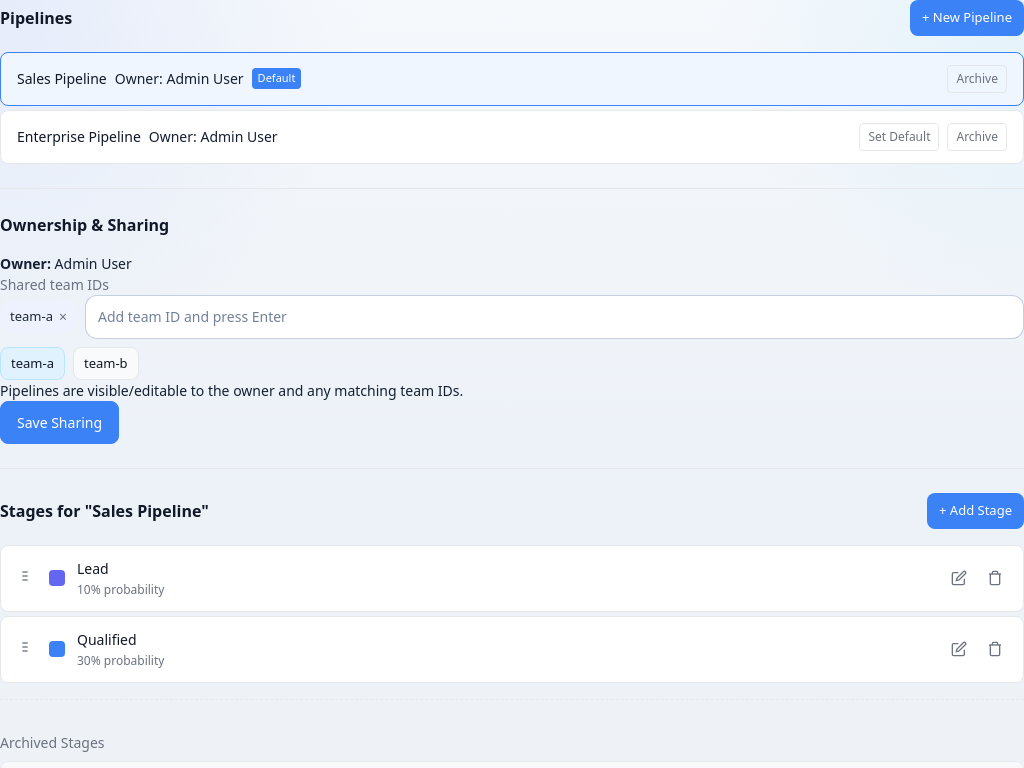
PipelineSettings › changes selected pipeline when clicked
The width and height of the screenshot is (1024, 768).
Note: Click Enterprise Pipeline
Click the text "Enterprise Pipeline" at [79, 136], box [17,126,141,147]
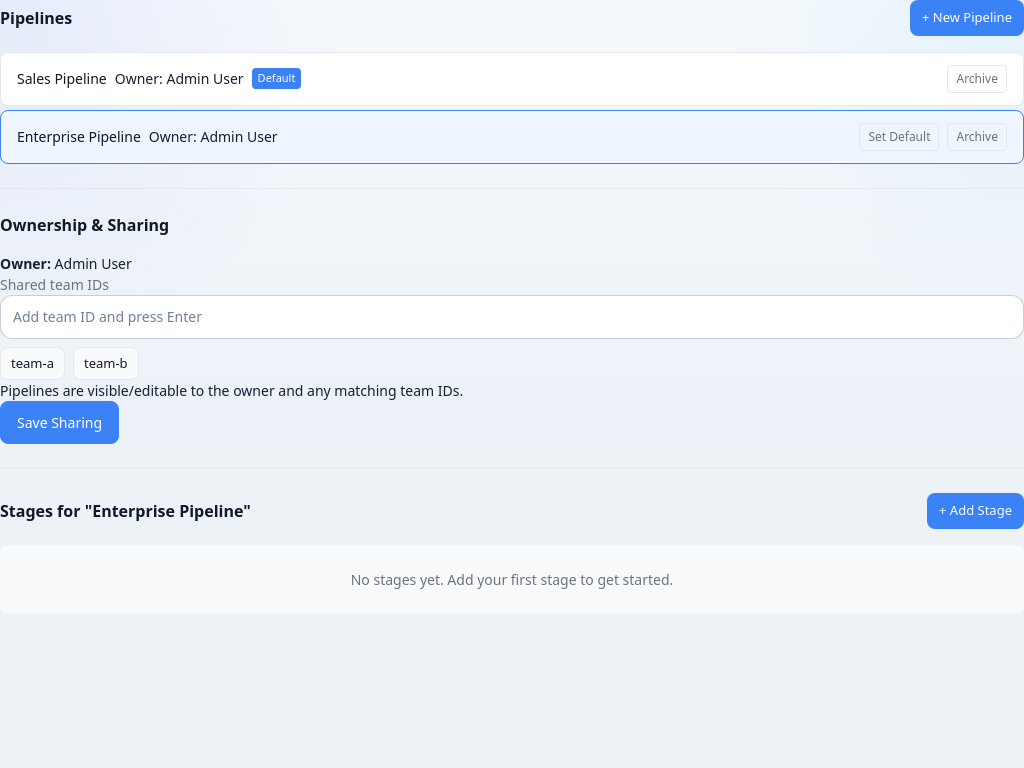
expect the heading "Stages for \"Enterprise Pipeline\"" is shown: met, box [0,499,251,523]
